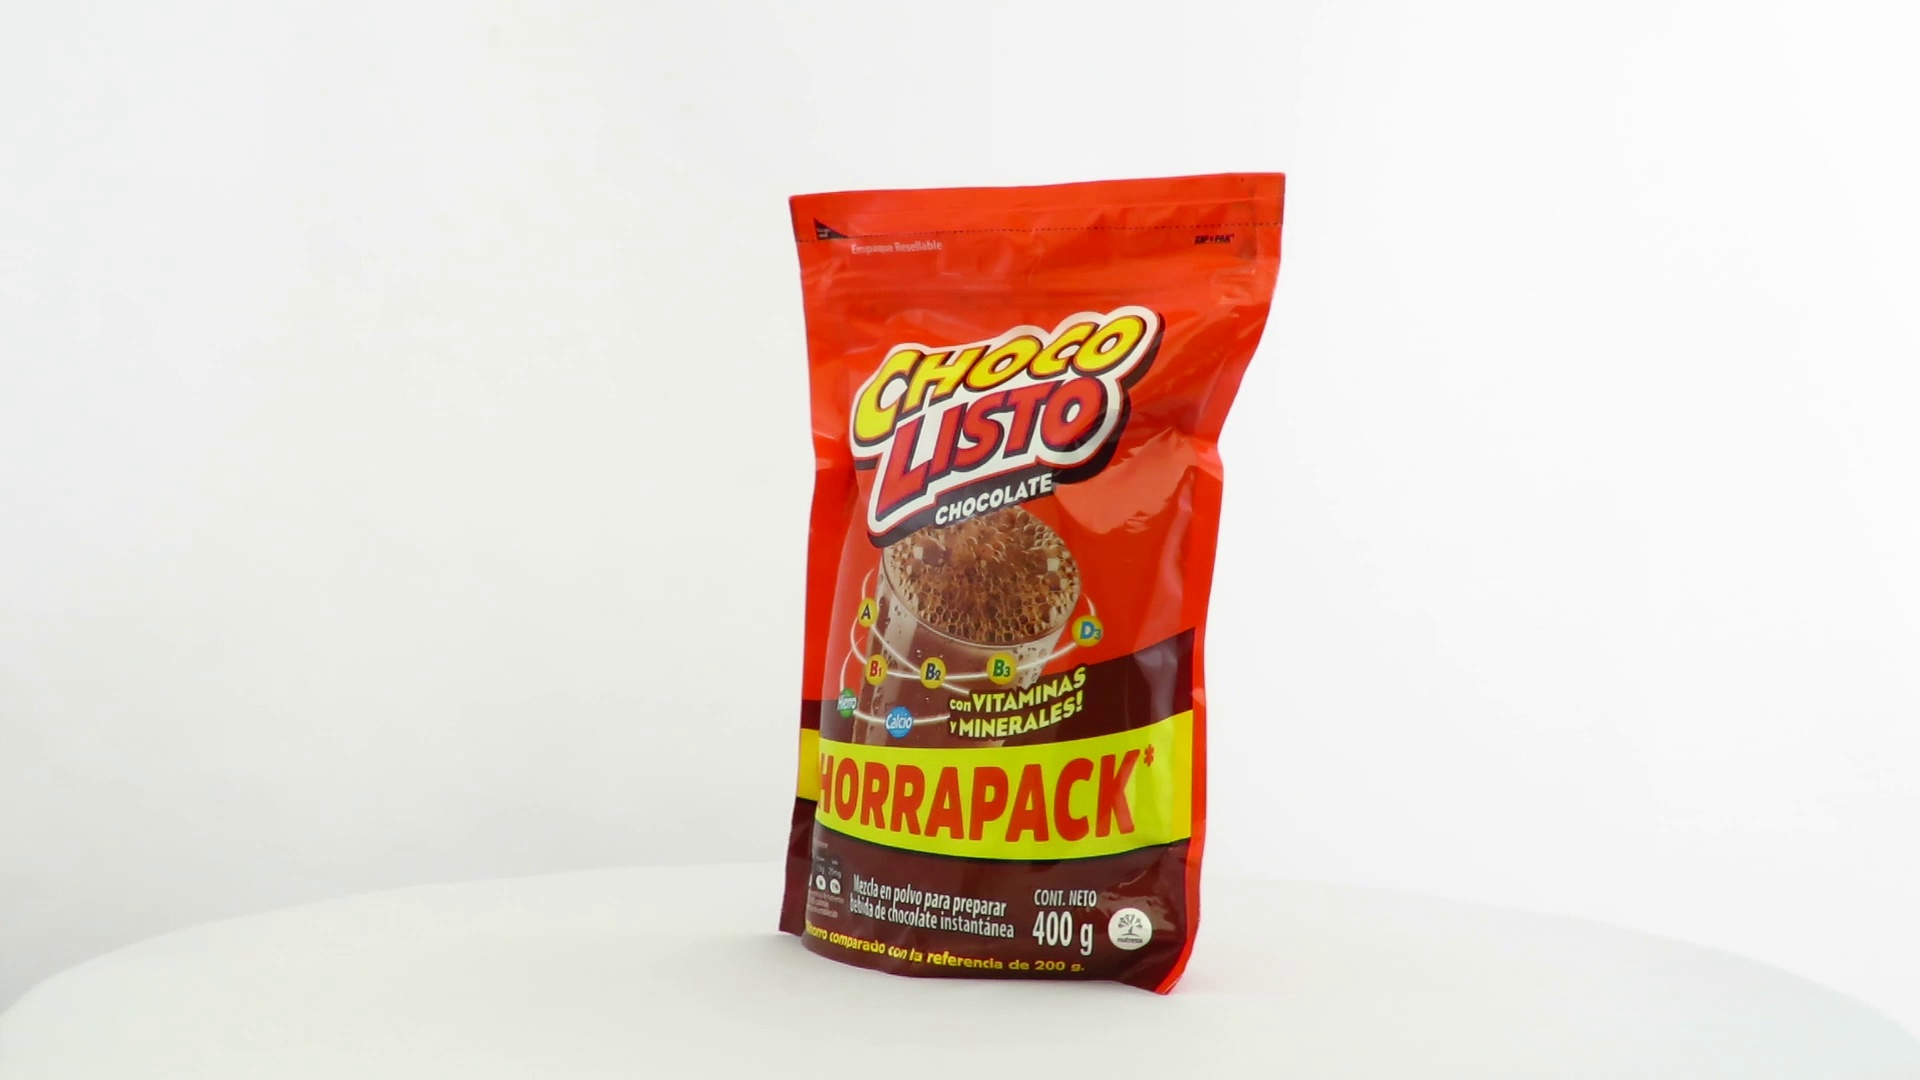COL0170103DYP40000: (774, 167, 1292, 1002)
